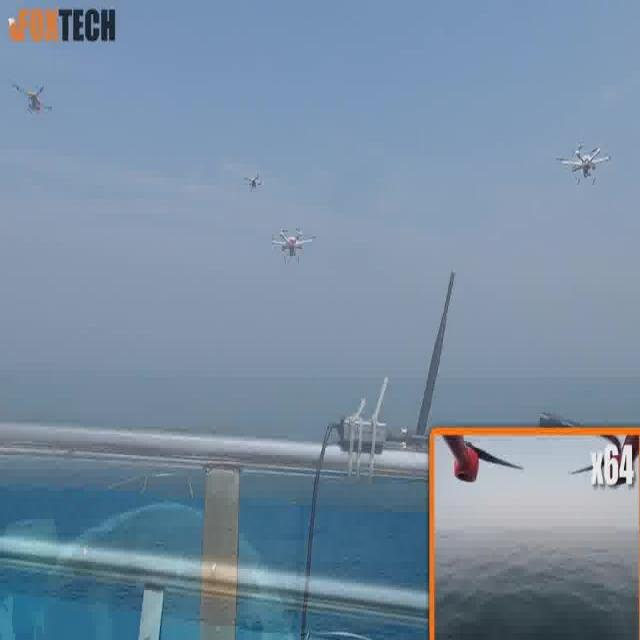drone: (555, 139, 612, 190), (270, 225, 317, 266), (11, 81, 54, 120), (241, 167, 266, 196)
